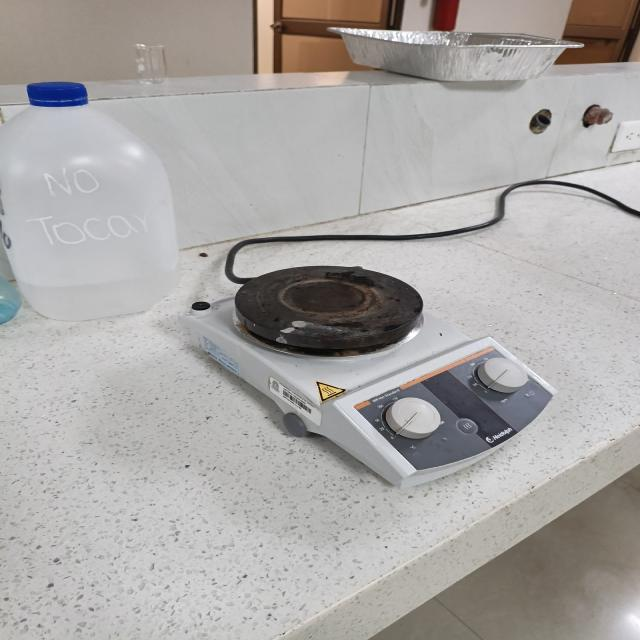Placa Calefactora con Agitador MagneticoMetalico: (179, 266, 556, 486)
